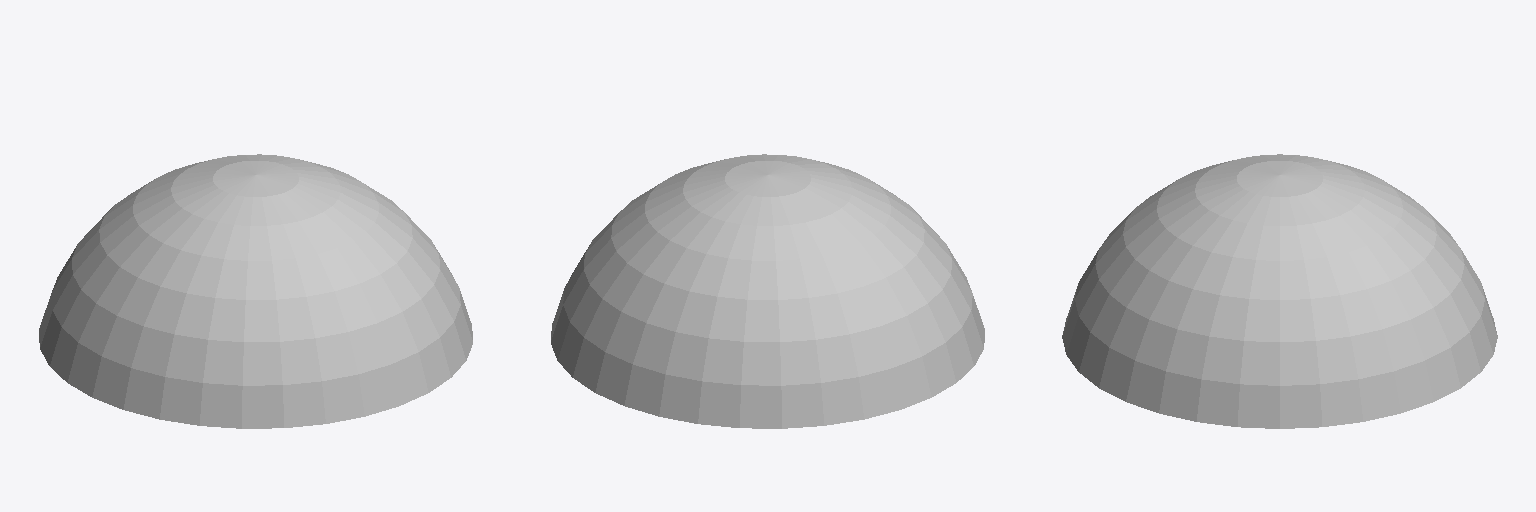
File: Sky.obj
3 renders of one model, left to right at view 1: azimuth 30°, elevation 25°; view 2: azimuth 150°, elevation 25°; view 3: azimuth 270°, elevation 25°, orthographic.
Visible parts, largest first — view 1: Sphere; view 2: Sphere; view 3: Sphere.
Boxes of the visible parts, <box> form: Sphere: <box>39,154,472,428</box>; Sphere: <box>551,154,984,428</box>; Sphere: <box>1062,154,1497,428</box>.
Size of the model in its own units: 24.63 by 10.11 by 24.63.